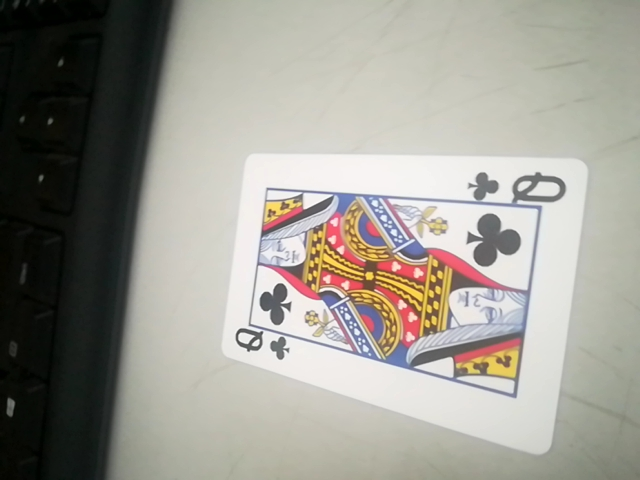mh q: (214, 145, 589, 455)
